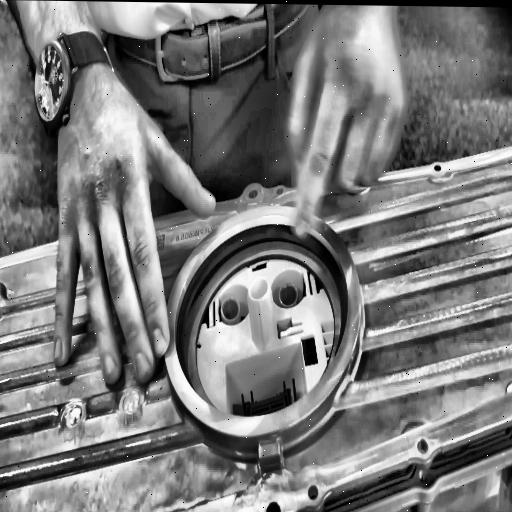connector: (163, 197, 364, 448)
